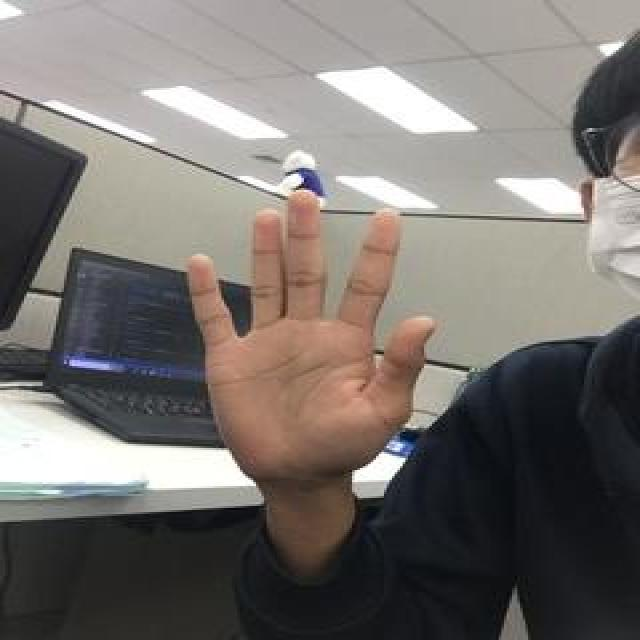no-gloves: (185, 190, 436, 480)
